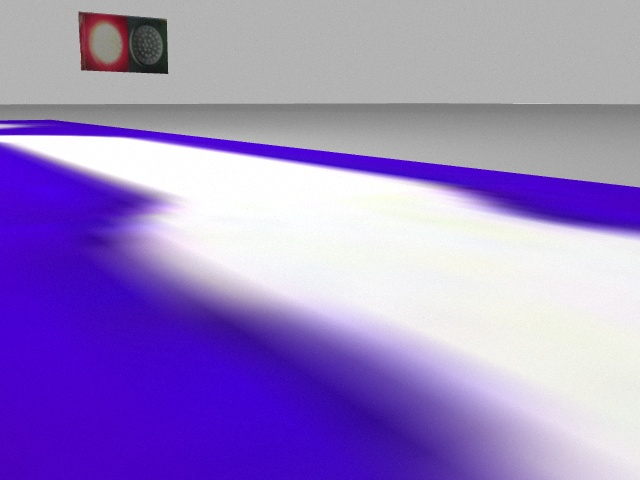red: (79, 14, 130, 73)
